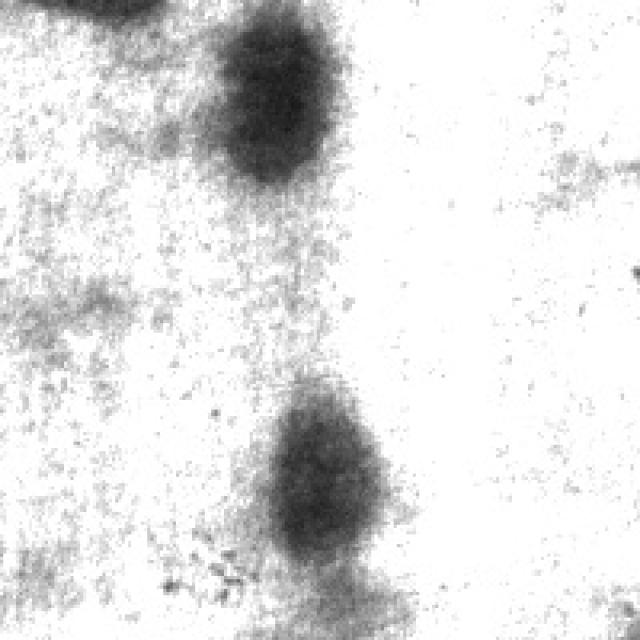patches: (192, 4, 336, 182), (252, 397, 378, 566)
